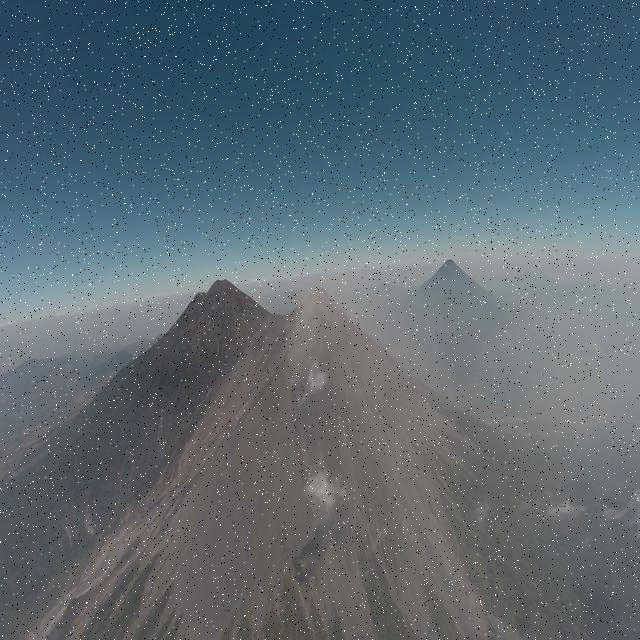Summit: (288, 284, 354, 324)
